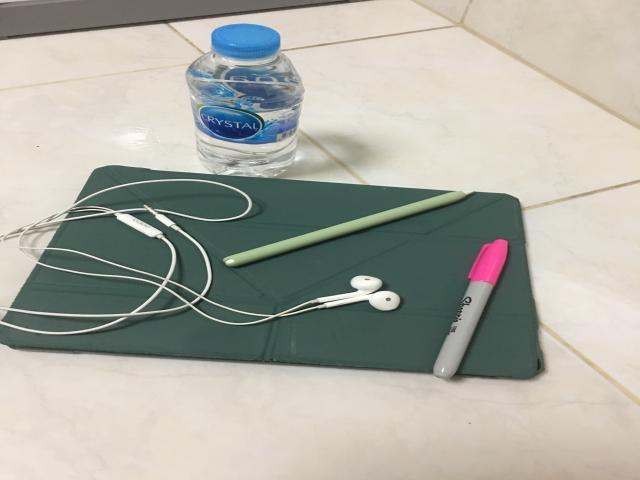Pen: (433, 239, 508, 379)
bottle: (187, 23, 303, 177)
wire: (0, 178, 400, 336)
